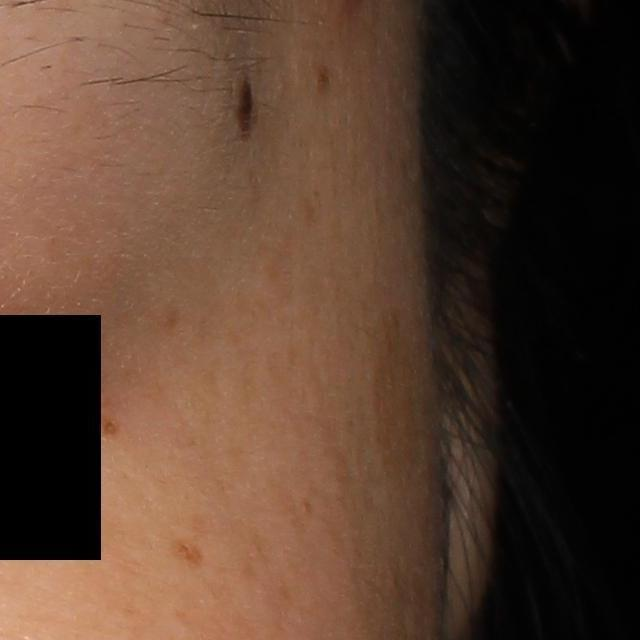melasma: (374, 324, 416, 481), (169, 536, 202, 571)
nevus: (236, 80, 255, 132), (100, 419, 119, 442)
